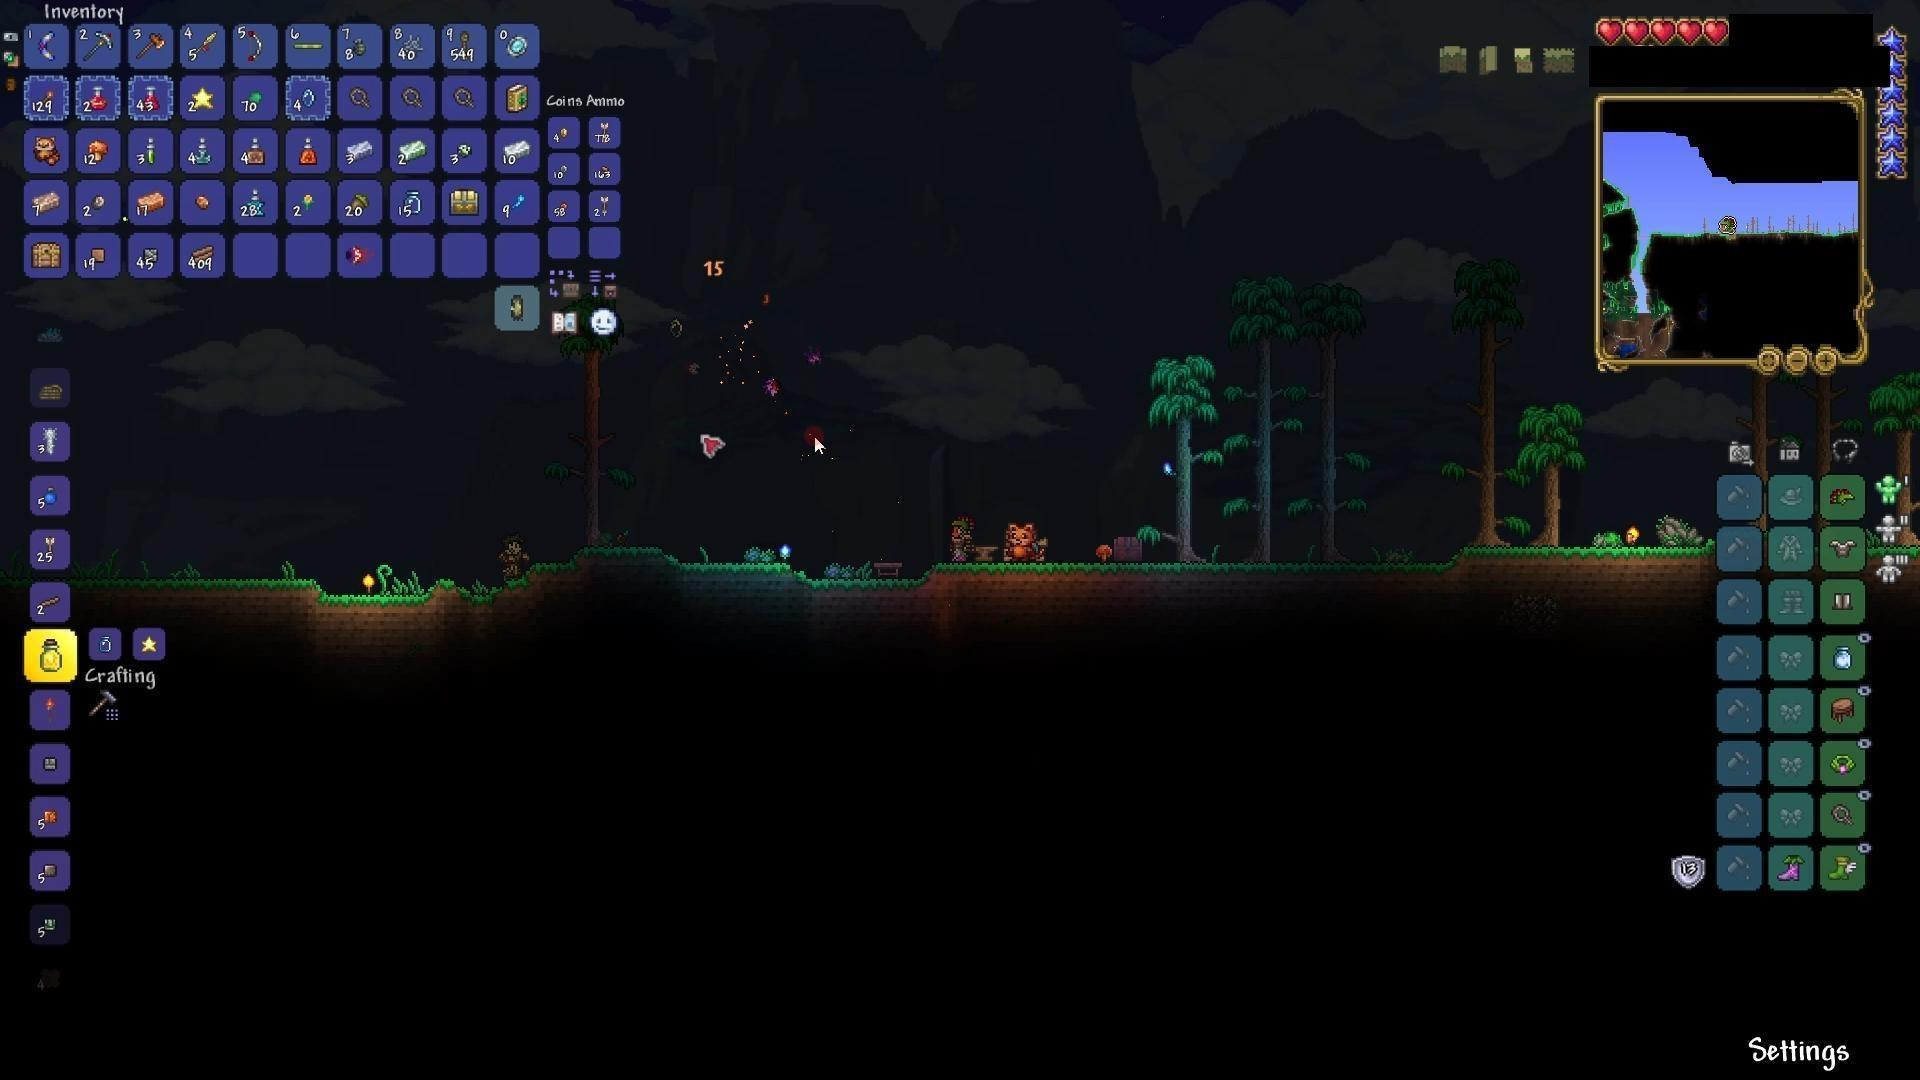dirt: (947, 556, 1265, 601), (1447, 543, 1709, 585), (650, 560, 807, 600), (535, 542, 670, 583), (425, 576, 549, 620), (315, 587, 433, 626), (160, 579, 335, 604), (802, 579, 936, 607)
heart: (1702, 17, 1733, 51), (1593, 16, 1626, 46), (1676, 15, 1704, 50), (1650, 16, 1676, 49), (1625, 15, 1651, 44)
tree: (1245, 264, 1292, 582), (1150, 345, 1218, 563), (1506, 390, 1577, 553)
